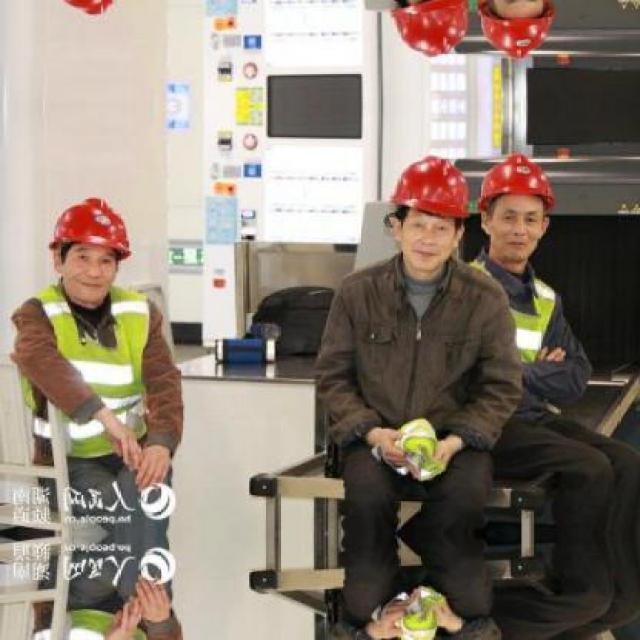Reflective-Jacket: (8, 282, 174, 467), (466, 260, 582, 392)
Safety-Helmet: (36, 190, 144, 268), (374, 148, 475, 231), (472, 147, 570, 220), (470, 1, 559, 66)
